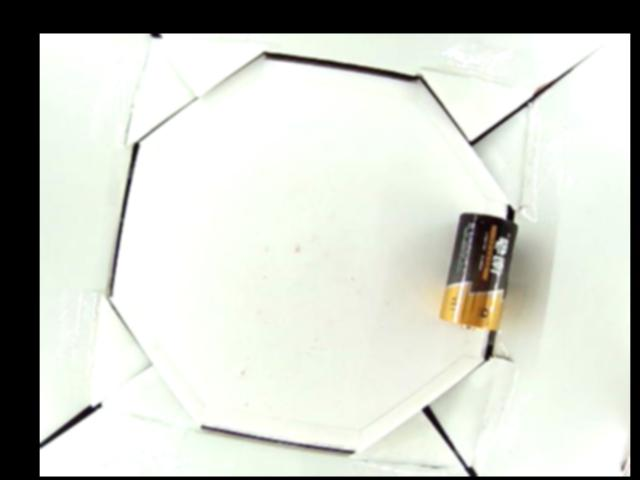Battery: (439, 210, 517, 333)
